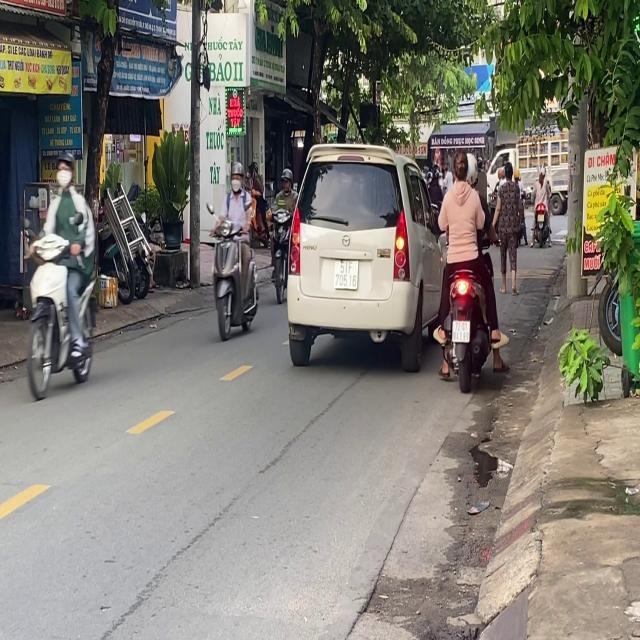helmet: (55, 152, 75, 193), (451, 148, 470, 184), (229, 161, 243, 192)
licenseplate: (23, 151, 101, 398), (433, 147, 503, 390), (209, 159, 259, 341)
motorcyclist: (451, 148, 470, 184)
nohelmet: (452, 319, 469, 342)
